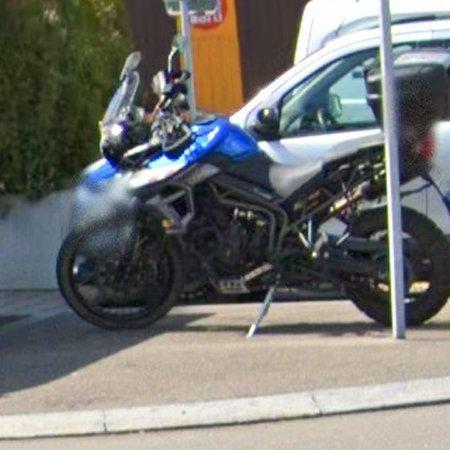motorcycles: (57, 68, 391, 329), (396, 44, 450, 325)
